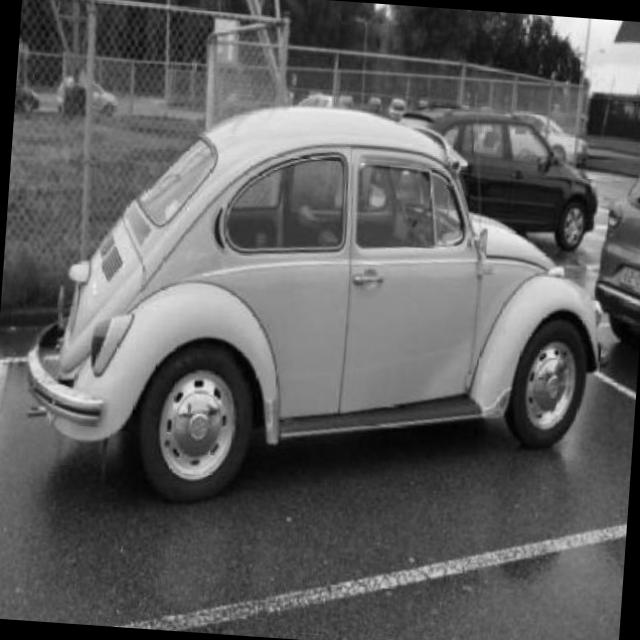car: (25, 94, 628, 506)
